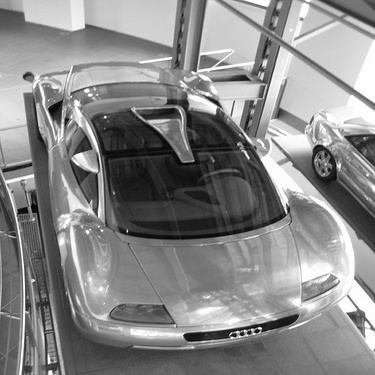car: (17, 64, 359, 358), (300, 100, 371, 225)
